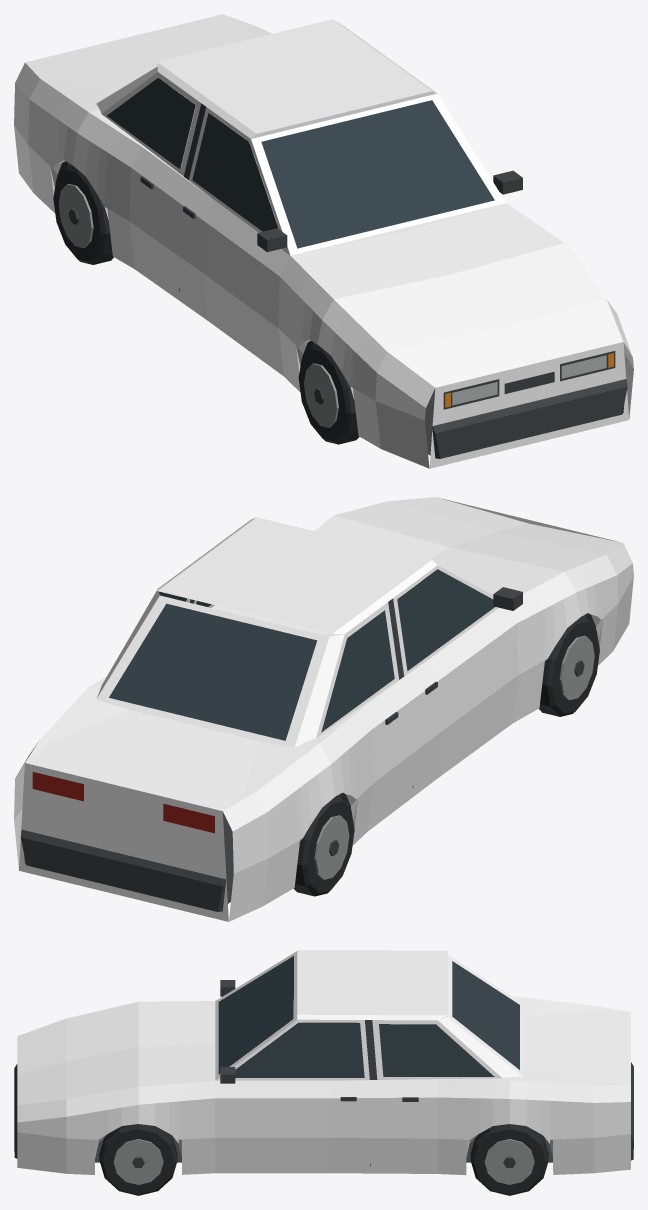
Rendered from varenna_ghiaia_s.glb.
3 views of the same model, one above another, from view 1: azimuth 30°, elevation 25°; view 2: azimuth 150°, elevation 25°; view 3: azimuth 270°, elevation 25° (orthographic). The views are drawn at different scales.
Visible parts, largest first — view 1: varenna_ghiaia_s; view 2: varenna_ghiaia_s; view 3: varenna_ghiaia_s.
Boxes of the visible parts, x1,y1,x2,y2 form: varenna_ghiaia_s: (14,14,633,468); varenna_ghiaia_s: (14,497,633,921); varenna_ghiaia_s: (14,950,633,1195).
Bounding box in the file's own units: 1.84 × 1.48 × 4.96.
Materials: 8 (1 with a texture image).
